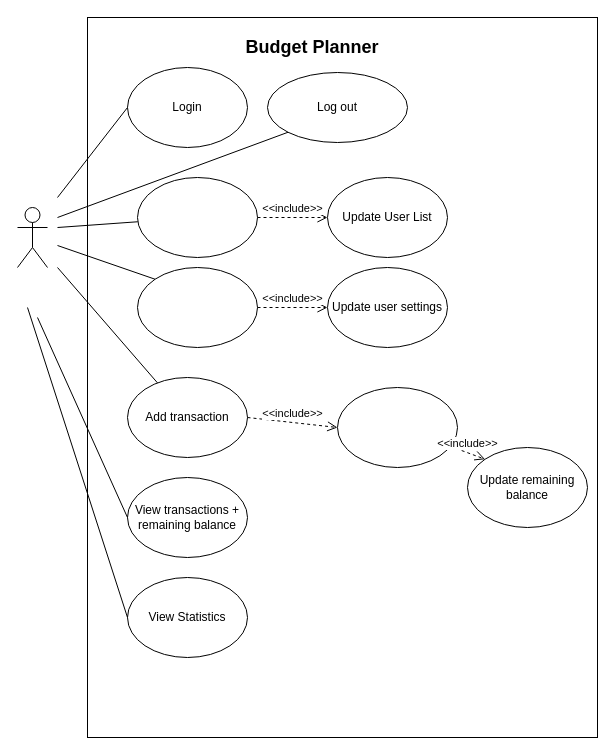
The diagram is 615 pixels wide and 755 high, and some of its shapes have lost their labels. The shapes that lost their labels are listed below. From the top down, each one's centre as x and y in pixels, then its label:
the point at 32,237: User
the point at 197,217: Register New User
the point at 197,307: Change user settings
the point at 397,427: Update transaction list
